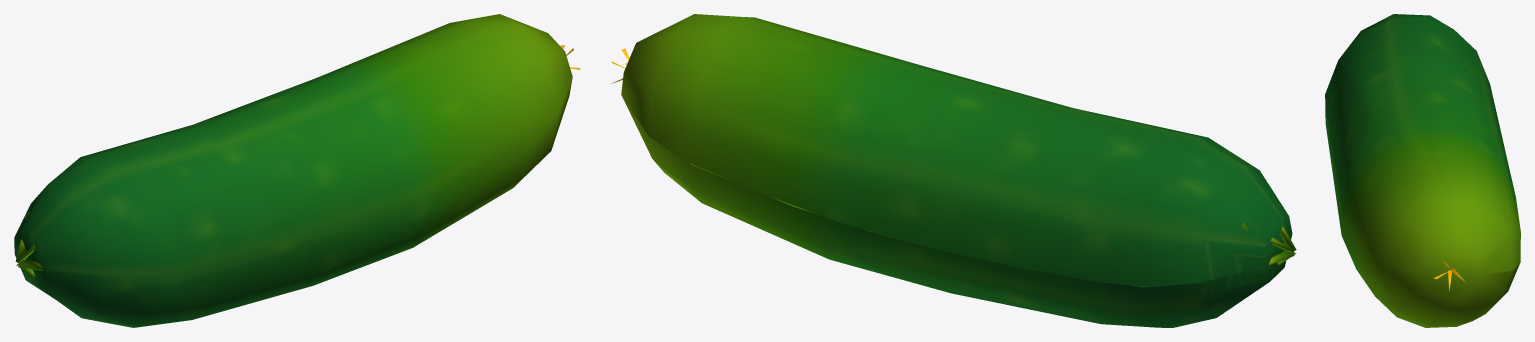
Rendered from NP_Cucumber_Harvest_LOD1.fbx.
3 views of the same model, side by side, from view 1: azimuth 30°, elevation 25°; view 2: azimuth 150°, elevation 25°; view 3: azimuth 270°, elevation 25° (orthographic). The views are drawn at different scales.
Visible parts, largest first — view 1: NP_Cucumber_Harvest; view 2: NP_Cucumber_Harvest; view 3: NP_Cucumber_Harvest.
Part boxes in pixels (box(x1,y1,x2,y2)): NP_Cucumber_Harvest: box(14, 14, 580, 327); NP_Cucumber_Harvest: box(611, 14, 1296, 327); NP_Cucumber_Harvest: box(1325, 14, 1520, 327).
Size of the model in its own units: 41.2 by 13.24 by 12.65.
